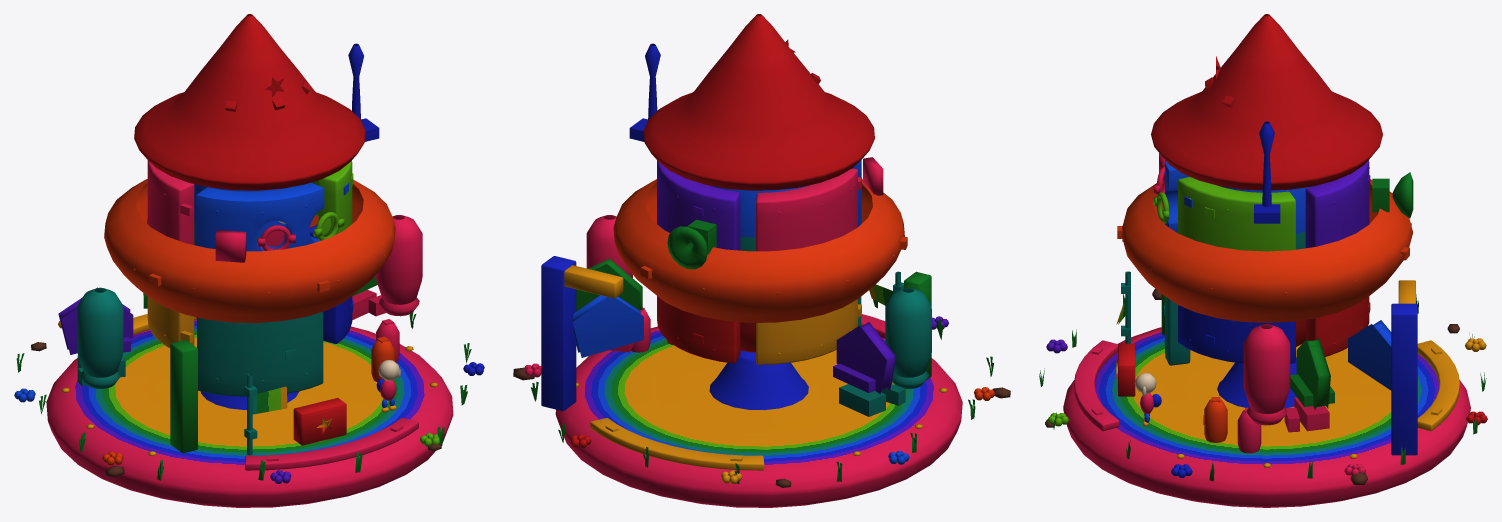
The model's file is rocket.glb.
3 views of the same model, side by side, from view 1: azimuth 30°, elevation 25°; view 2: azimuth 150°, elevation 25°; view 3: azimuth 270°, elevation 25° (orthographic).
Parts seen in each view (by area): view 1: static, nose, band, lo0, up0, boostL, boostR, ladder, up3, trimF, sign, portL (+10 smaller); view 2: static, nose, band, up3, boostL, gantry, up2, lo3, nozzle, lo2, fin1, fin2 (+9 smaller); view 3: static, nose, band, up1, boostR, gantry, up2, lo1, fin0, trimF, fin1, trimB (+11 smaller).
Part boxes in pixels (box(x1,y1,x2,y2)): static: box(14, 293, 484, 507); nose: box(134, 14, 365, 190); band: box(104, 179, 395, 322); lo0: box(197, 312, 323, 396); up0: box(196, 182, 348, 251); boostL: box(77, 287, 125, 388); boostR: box(352, 215, 422, 319); ladder: box(170, 339, 197, 453); up3: box(147, 160, 194, 244); trimF: box(245, 418, 418, 470); sign: box(293, 398, 346, 445); portL: box(215, 225, 295, 262); static: box(513, 299, 1010, 507); nose: box(643, 14, 874, 190); band: box(613, 179, 907, 322); up3: box(756, 168, 861, 251); boostL: box(839, 287, 931, 416); gantry: box(541, 256, 576, 411); up2: box(657, 160, 740, 250); lo3: box(756, 299, 861, 364); nozzle: box(709, 350, 808, 410); lo2: box(657, 296, 740, 363); fin1: box(572, 295, 643, 357); fin2: box(833, 322, 896, 394); static: box(1039, 288, 1487, 507); nose: box(1151, 14, 1382, 190); band: box(1117, 179, 1412, 322); up1: box(1178, 177, 1295, 251); boostR: box(1243, 324, 1329, 432); gantry: box(1391, 303, 1417, 455); up2: box(1305, 160, 1370, 248); lo1: box(1178, 305, 1295, 363); fin0: box(1290, 338, 1334, 410); trimF: box(1074, 340, 1119, 431); fin1: box(1348, 320, 1391, 390); trimB: box(1417, 340, 1459, 431).
Size of the model in its own units: 3.13 by 3.16 by 3.07.
1 material, 1 textured.
